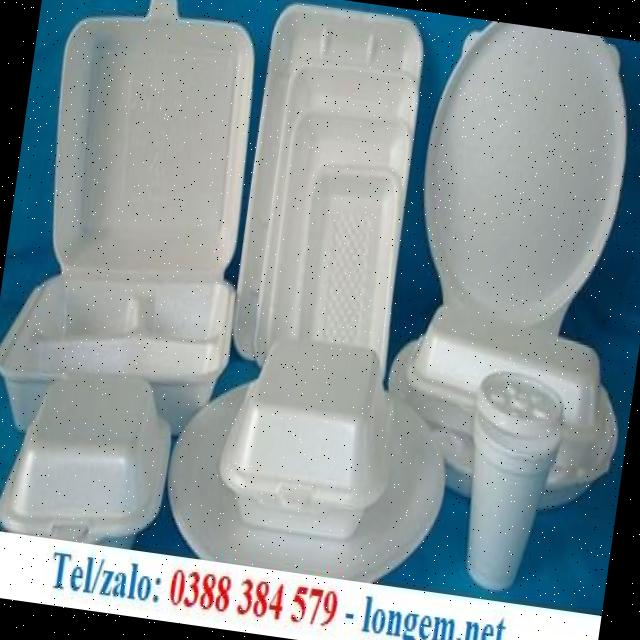styrofoam: (201, 0, 452, 545), (372, 13, 640, 520), (0, 0, 278, 457)
